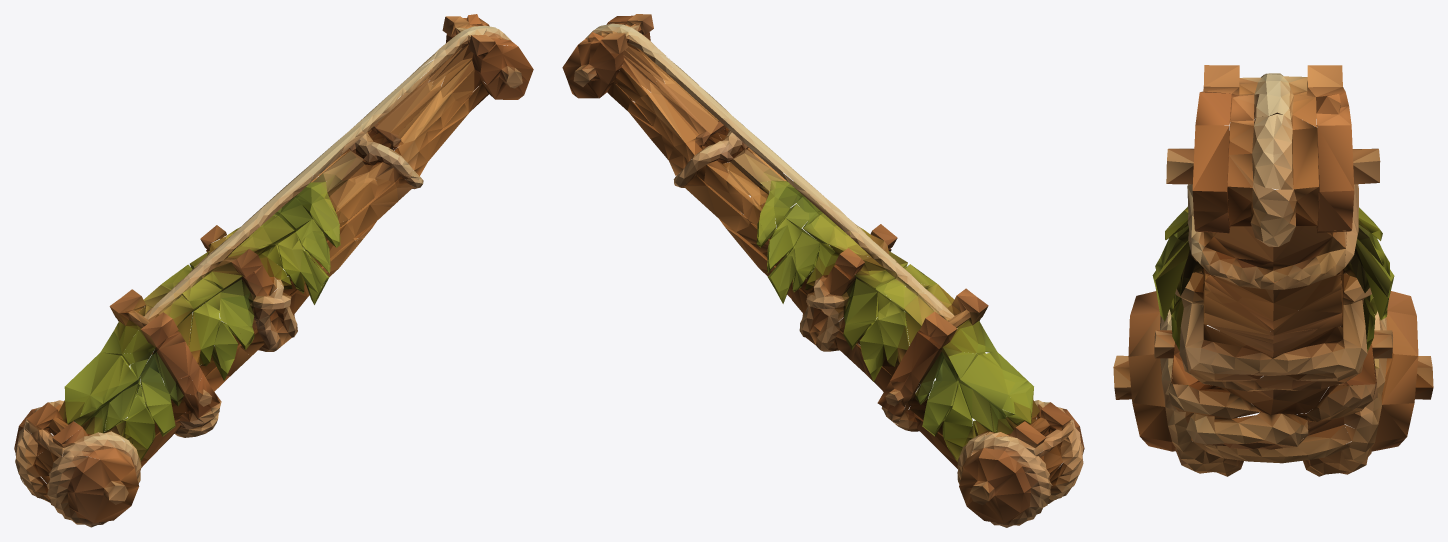
File: building-magnetCrane-arm-tripo.glb
3 views of the same model, side by side, from view 1: azimuth 30°, elevation 25°; view 2: azimuth 150°, elevation 25°; view 3: azimuth 270°, elevation 25° (orthographic). The views are drawn at different scales.
Parts seen in each view (by area): view 1: 0_magnetCrane-arm; view 2: 0_magnetCrane-arm; view 3: 0_magnetCrane-arm.
Part boxes in pixels (x1,y1,x2,y2): 0_magnetCrane-arm: (14,14,533,527); 0_magnetCrane-arm: (562,14,1084,527); 0_magnetCrane-arm: (1113,65,1433,476).
Bounding box in the file's own units: 3.34 × 2.58 × 0.96.
